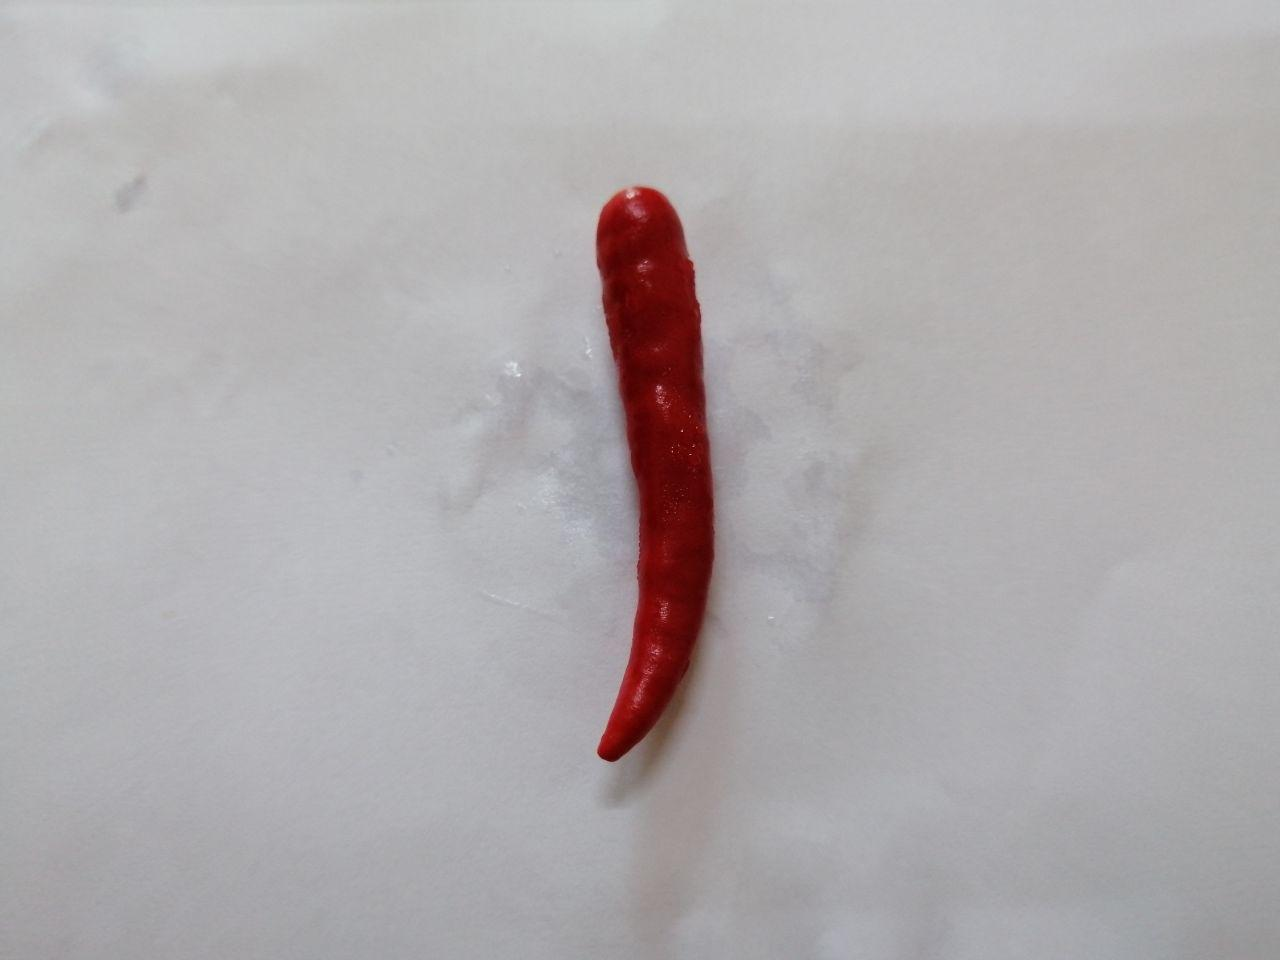lada merah: (550, 168, 760, 781)
